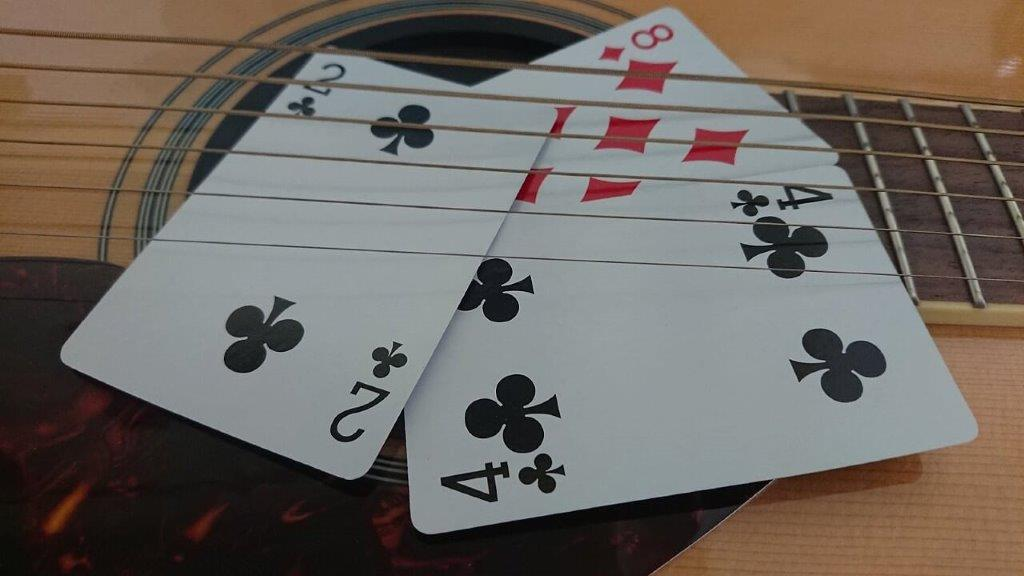2C: (283, 60, 349, 122)
8D: (595, 20, 676, 67)
